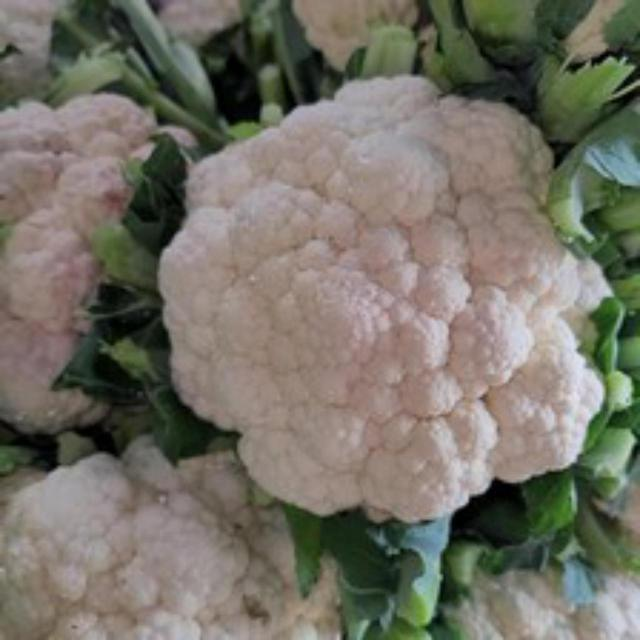cauliflower: (146, 64, 612, 532)
